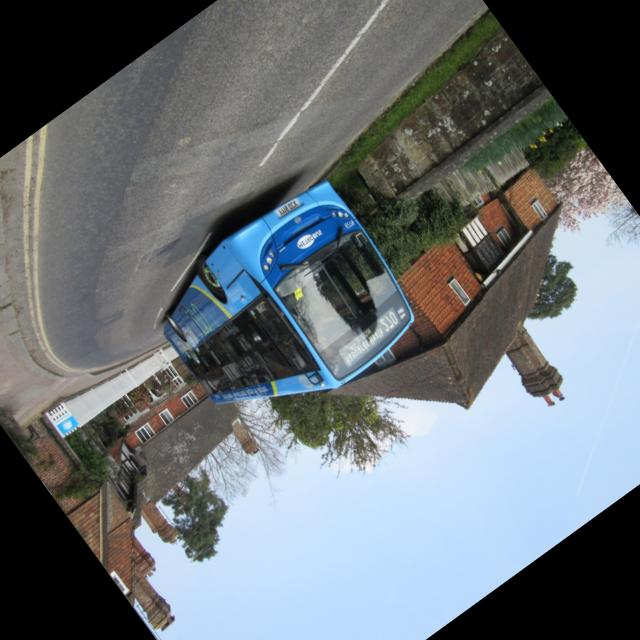bus: (136, 167, 432, 456)
